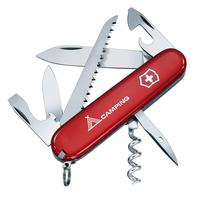knife: (5, 5, 179, 182)
